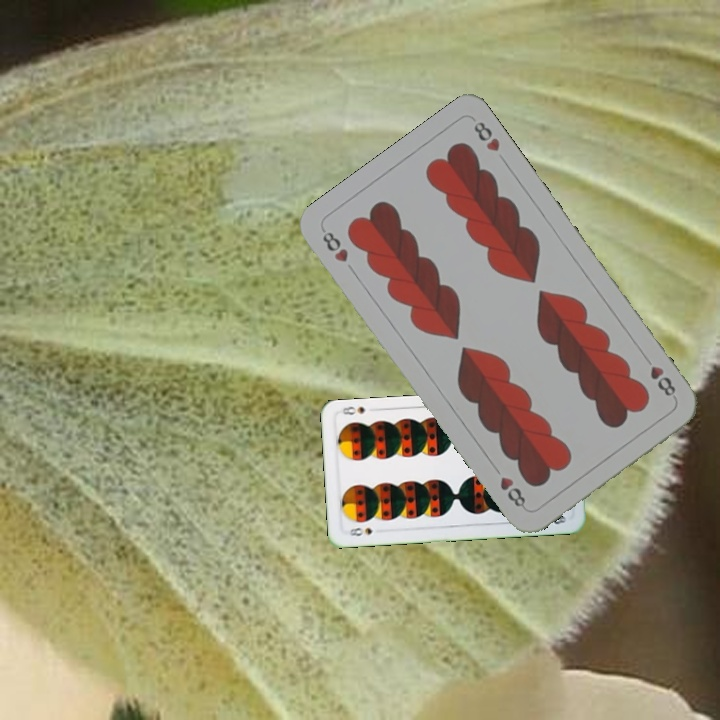H8: (645, 361, 679, 401), (318, 225, 351, 265)
S8: (346, 523, 375, 539)
